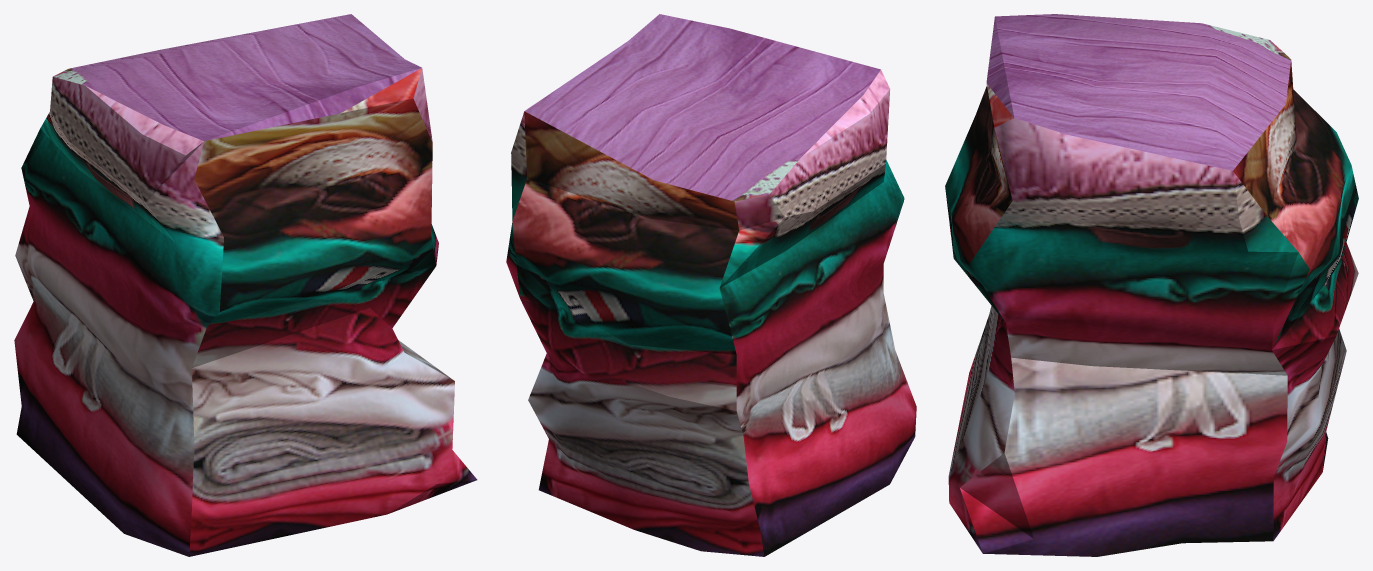
File: shirt_pile-9.FBX
The picture shows the model from 3 angles, left to right: view 1: azimuth 30°, elevation 25°; view 2: azimuth 150°, elevation 25°; view 3: azimuth 270°, elevation 25°; orthographic projection. The views are drawn at different scales.
Visible parts, largest first — view 1: Object04; view 2: Object04; view 3: Object04.
Boxes of the visible parts, x1,y1,x2,y2 form: Object04: (14, 14, 477, 556); Object04: (506, 14, 916, 556); Object04: (945, 14, 1358, 556).
Size of the model in its own units: 18.68 by 23.55 by 20.45.
